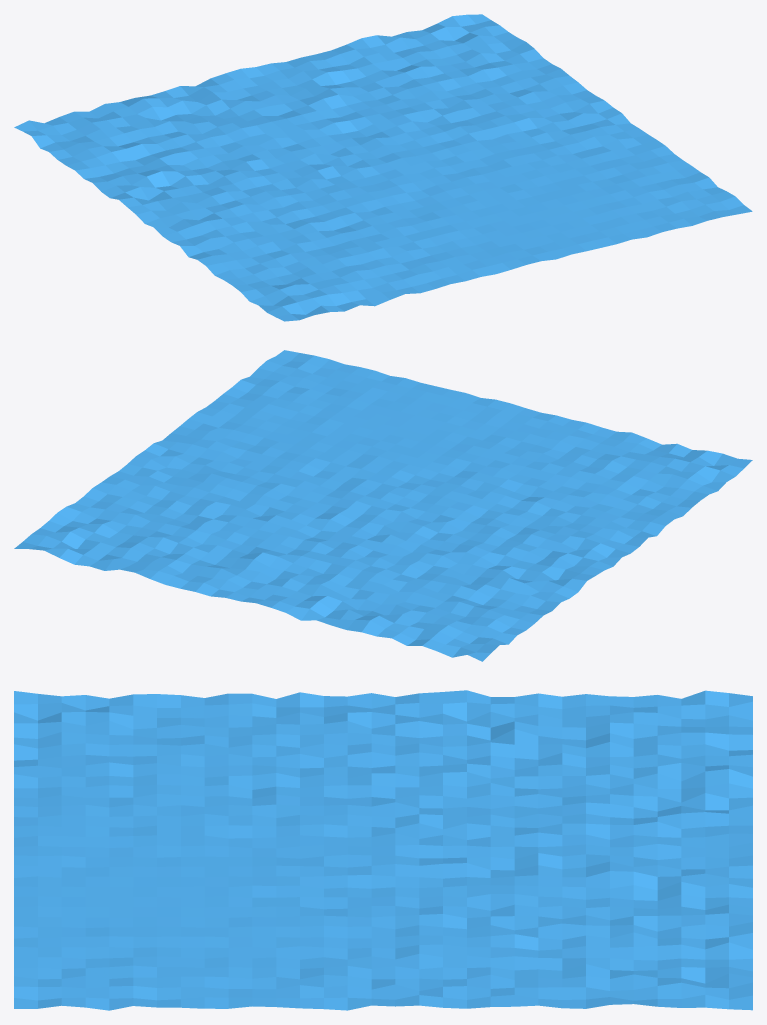
File: River002.fbx
The picture shows the model from 3 angles, top to bottom: view 1: azimuth 30°, elevation 25°; view 2: azimuth 150°, elevation 25°; view 3: azimuth 270°, elevation 25°; orthographic projection. The views are drawn at different scales.
Parts seen in each view (by area): view 1: Plane; view 2: Plane; view 3: Plane.
Boxes of the visible parts, x1,y1,x2,y2 form: Plane: (14,14,752,321); Plane: (14,350,752,661); Plane: (14,690,752,1010).
Size of the model in its own units: 1545 by 31.31 by 1545.
